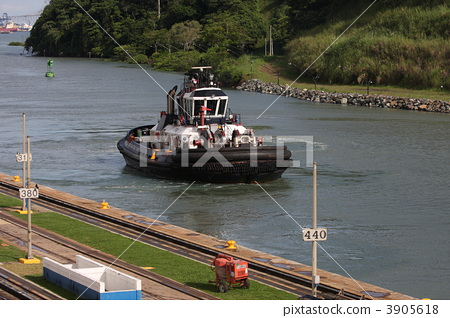otherboat: (116, 61, 294, 188)
